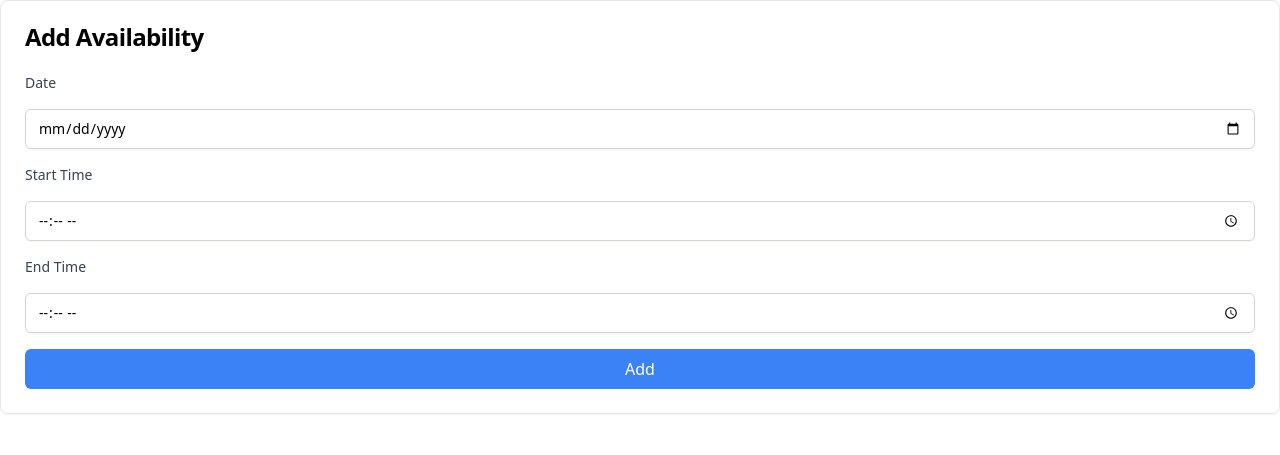
Test case: AddAvailability › all input should be field
Click the button "Add" at (640, 369), box top-left (25, 349), bottom-right (1255, 389)
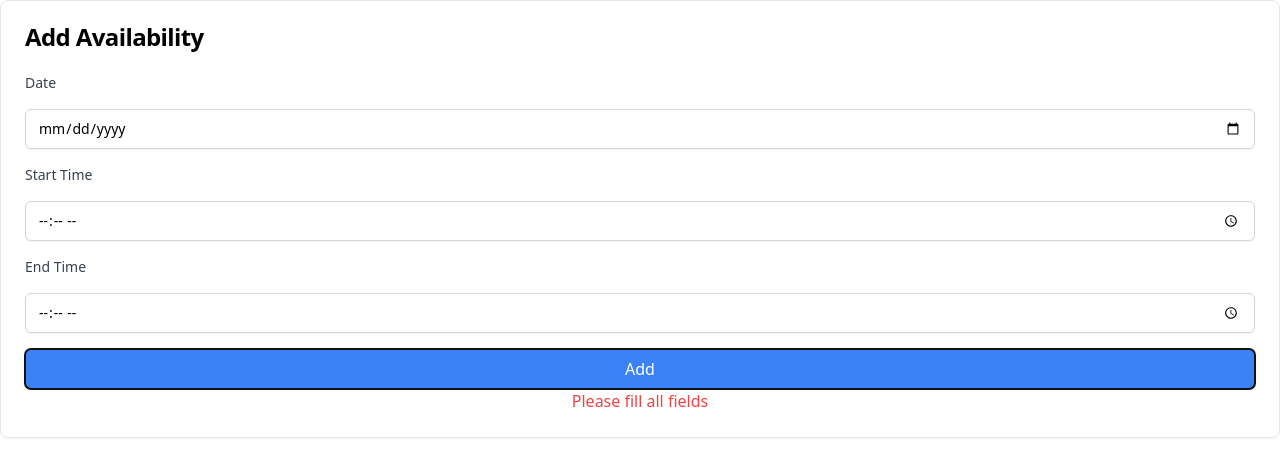
Expected: the text "Please fill all fields" is shown, top-left (572, 390), bottom-right (708, 412)
